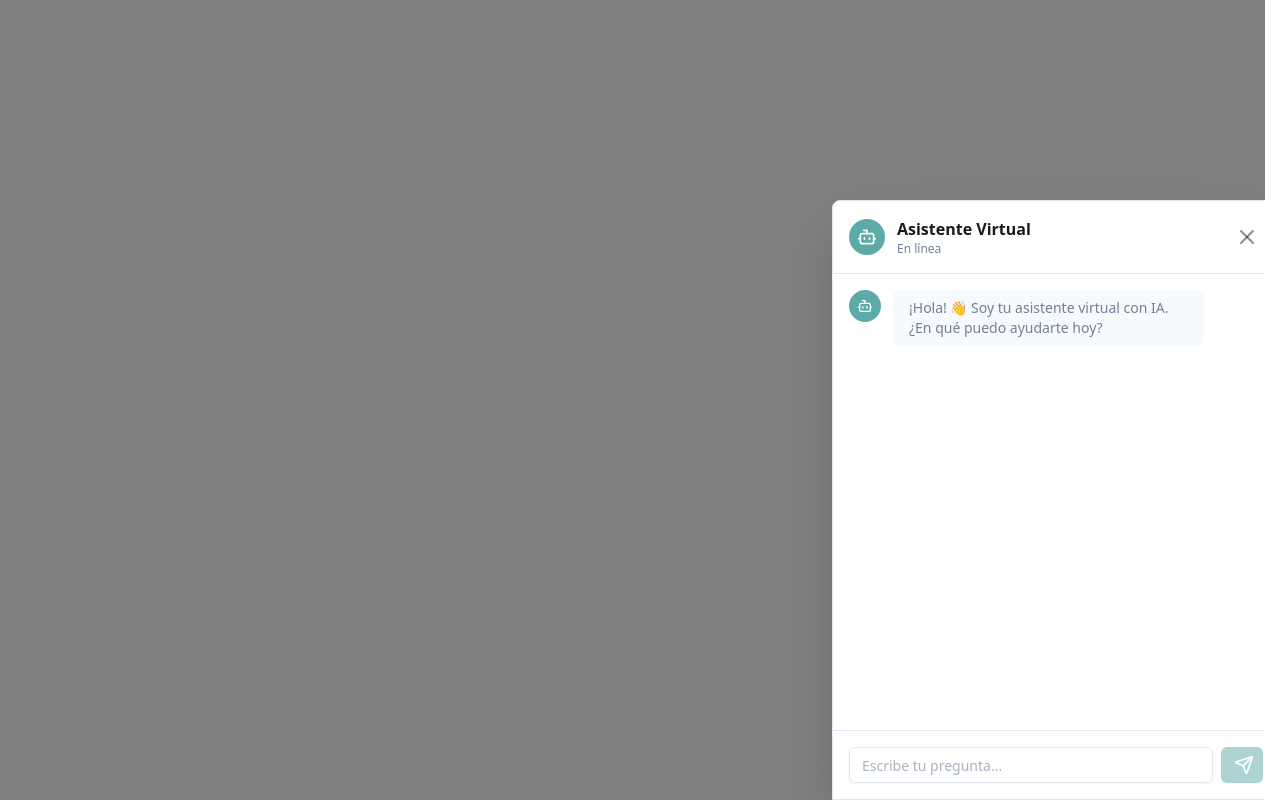
Test: Chatbot safe fallback › does not invent generic discounts, coupons, offers, or sale routes when the API fails
Type "¿Qué descuentos o cupones tienen hoy?" into the field with placeholder "Escribe tu pregunta..." at (1031, 765), box left=849, top=747, right=1213, bottom=783
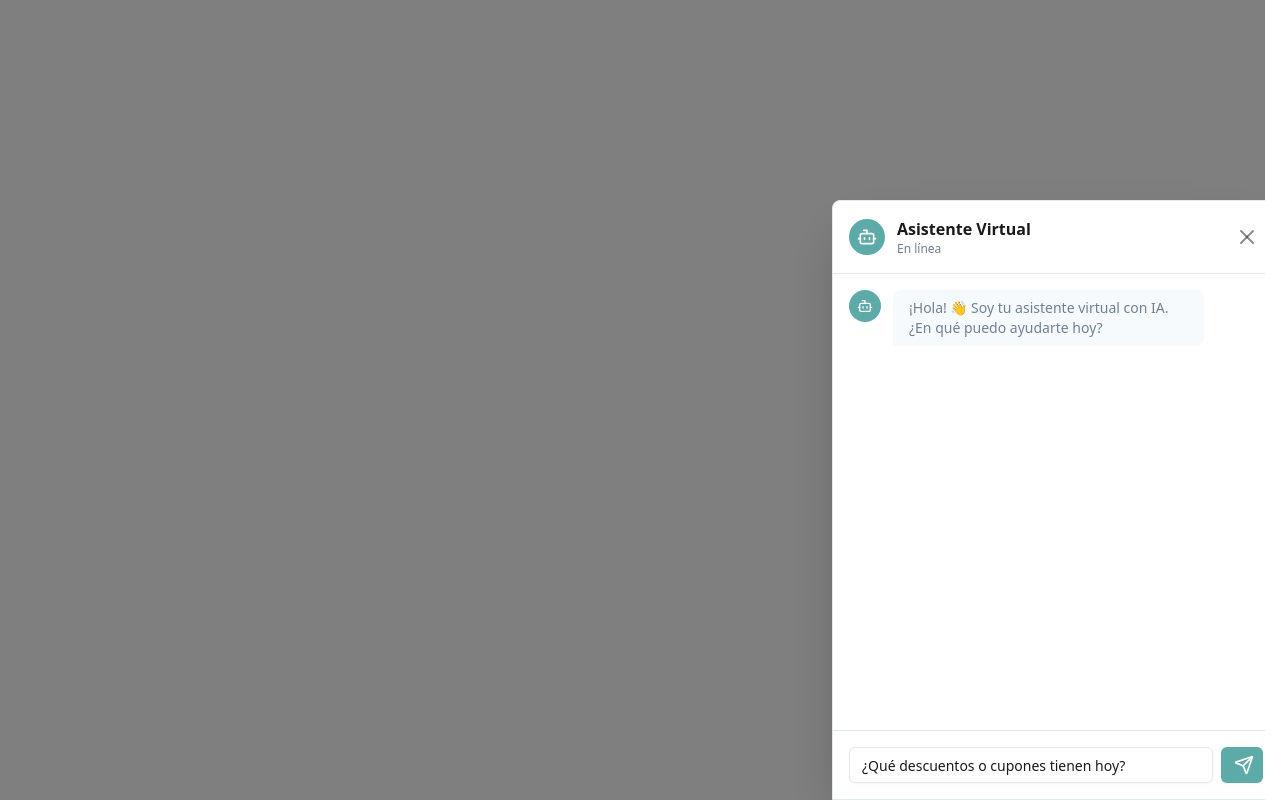
Click the 2nd button at (1242, 765), box left=1221, top=747, right=1263, bottom=783
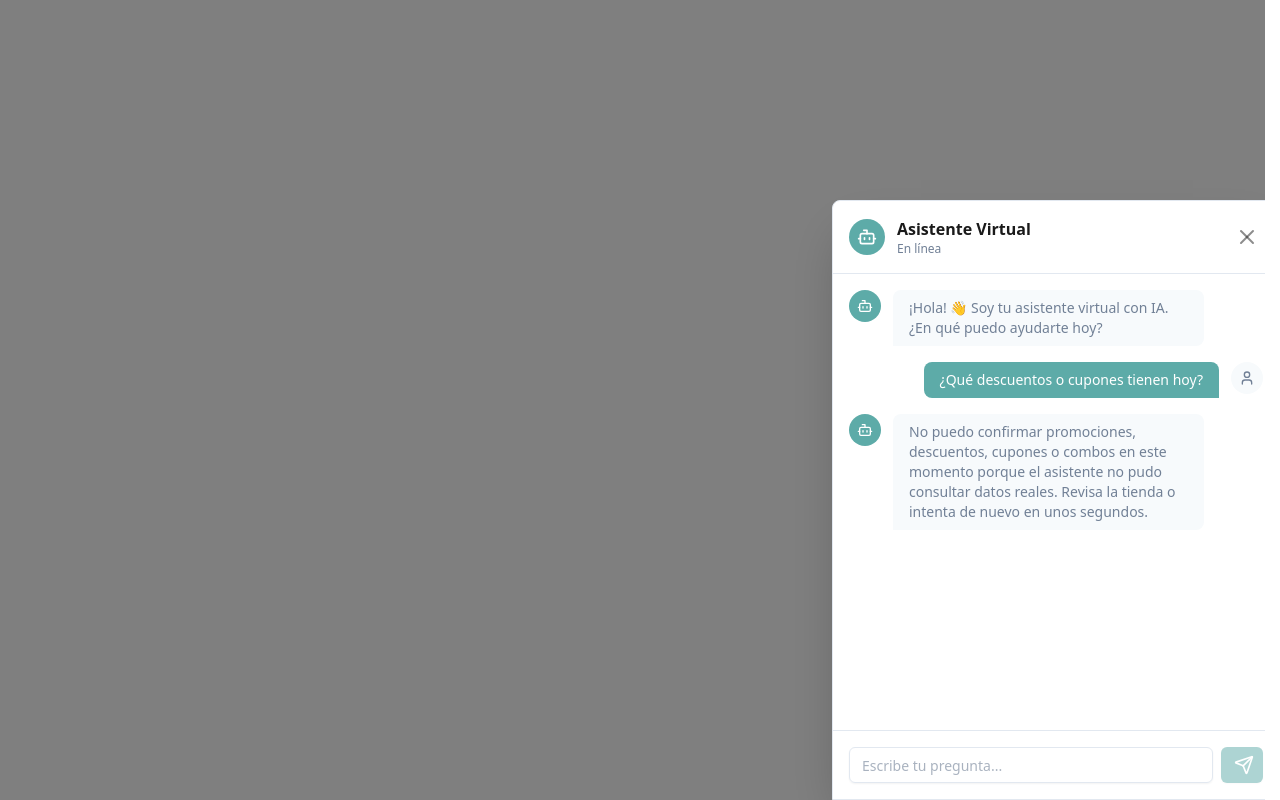
Expected: the text "No puedo confirmar promociones" is shown, left=909, top=422, right=1179, bottom=521
